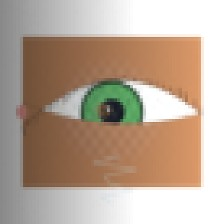foreign_body_visible: (44, 79, 73, 102)
